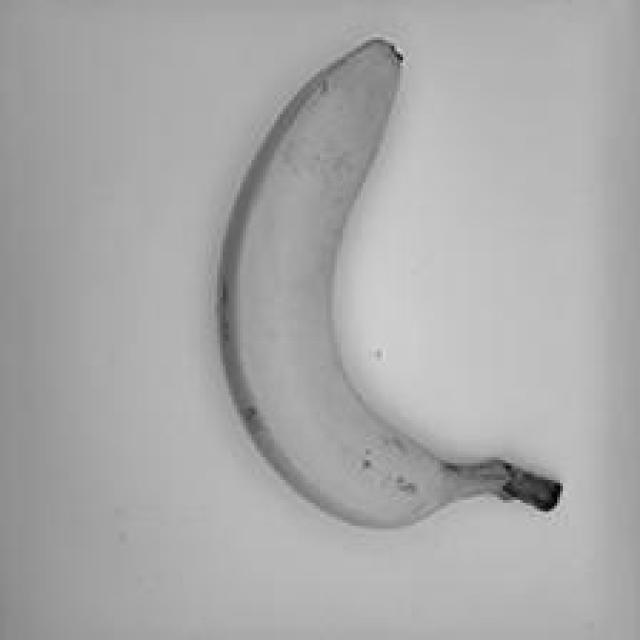Ripe: (183, 30, 570, 542)
